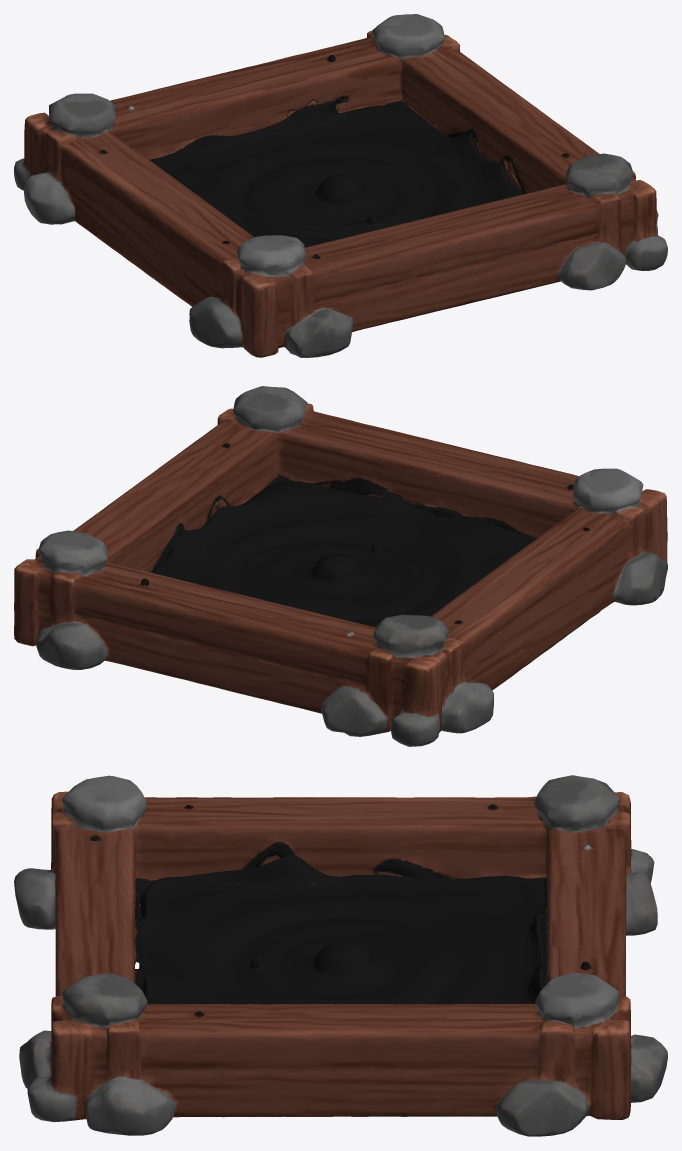
The model's file is siege_trap_tar.glb.
3 renders of one model, top to bottom at view 1: azimuth 30°, elevation 25°; view 2: azimuth 150°, elevation 25°; view 3: azimuth 270°, elevation 25°, orthographic. The views are drawn at different scales.
Visible parts, largest first — view 1: geometry_0; view 2: geometry_0; view 3: geometry_0.
Boxes of the visible parts, box(x1,y1,x2,y2) form: geometry_0: box(14, 14, 667, 357); geometry_0: box(14, 386, 667, 746); geometry_0: box(14, 775, 667, 1136).
Size of the model in its own units: 0.9868 by 0.1972 by 0.9993.
1 material, 1 textured.
